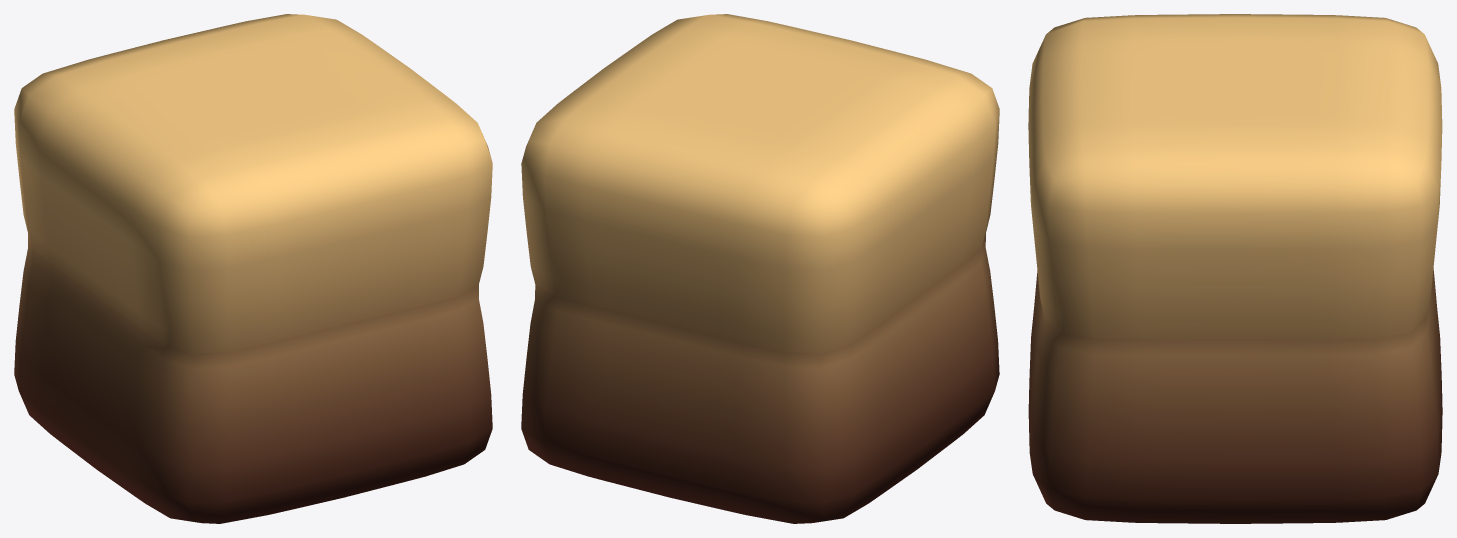
Rendered from TileDirt_2.fbx.
3 renders of one model, left to right at view 1: azimuth 30°, elevation 25°; view 2: azimuth 150°, elevation 25°; view 3: azimuth 270°, elevation 25°, orthographic. The views are drawn at different scales.
Visible parts, largest first — view 1: TileDirt_2; view 2: TileDirt_2; view 3: TileDirt_2.
Boxes of the visible parts, x1,y1,x2,y2 form: TileDirt_2: (14, 14, 492, 523); TileDirt_2: (521, 14, 999, 523); TileDirt_2: (1028, 14, 1442, 523).
Bounding box in the file's own units: 2 × 2 × 2.
